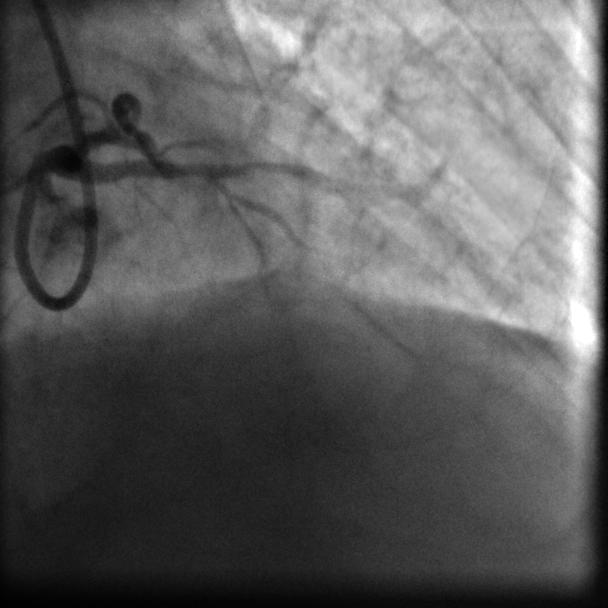Stenosis: (124, 115, 143, 143)
